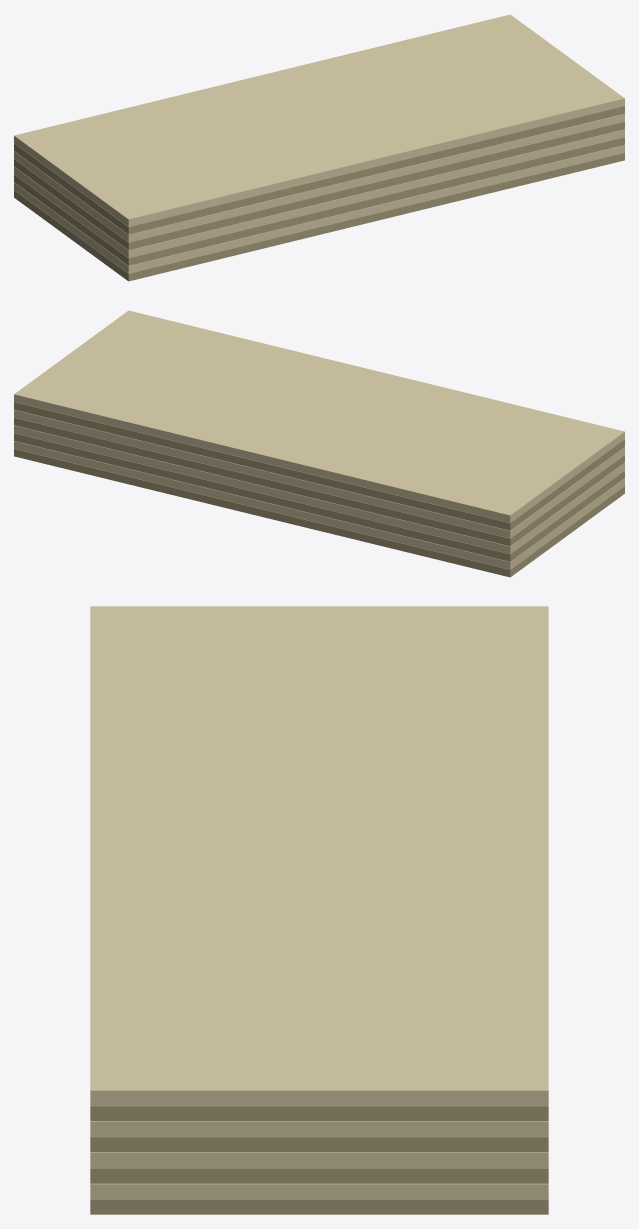
Rendered from paper.glb.
3 renders of one model, top to bottom at view 1: azimuth 30°, elevation 25°; view 2: azimuth 150°, elevation 25°; view 3: azimuth 270°, elevation 25°, orthographic. The views are drawn at different scales.
Parts seen in each view (by area): view 1: PaperLayer_7, PaperLayer_4, PaperLayer_0, PaperLayer_1, PaperLayer_2, PaperLayer_3, PaperLayer_6, PaperLayer_5; view 2: PaperLayer_7, PaperLayer_4, PaperLayer_0, PaperLayer_1, PaperLayer_2, PaperLayer_3, PaperLayer_6, PaperLayer_5; view 3: PaperLayer_7, PaperLayer_4, PaperLayer_6, PaperLayer_0, PaperLayer_1, PaperLayer_2, PaperLayer_3, PaperLayer_5.
Part boxes in pixels (x1,y1,x2,y2): PaperLayer_7: (14,14,624,226); PaperLayer_4: (14,121,624,250); PaperLayer_0: (14,152,624,281); PaperLayer_1: (14,145,624,273); PaperLayer_2: (14,137,624,265); PaperLayer_3: (14,129,624,257); PaperLayer_6: (14,106,624,234); PaperLayer_5: (14,114,624,242); PaperLayer_7: (14,310,624,522); PaperLayer_4: (14,417,624,546); PaperLayer_0: (14,448,624,577); PaperLayer_1: (14,441,624,569); PaperLayer_2: (14,433,624,561); PaperLayer_3: (14,425,624,553); PaperLayer_6: (14,402,624,530); PaperLayer_5: (14,410,624,538); PaperLayer_7: (90,606,548,1105); PaperLayer_4: (90,1136,548,1152); PaperLayer_6: (90,1105,548,1121); PaperLayer_0: (90,1199,548,1214); PaperLayer_1: (90,1183,548,1198); PaperLayer_2: (90,1168,548,1183); PaperLayer_3: (90,1152,548,1167); PaperLayer_5: (90,1121,548,1136).
Size of the model in its own units: 0.5 by 0.0597 by 0.2.
